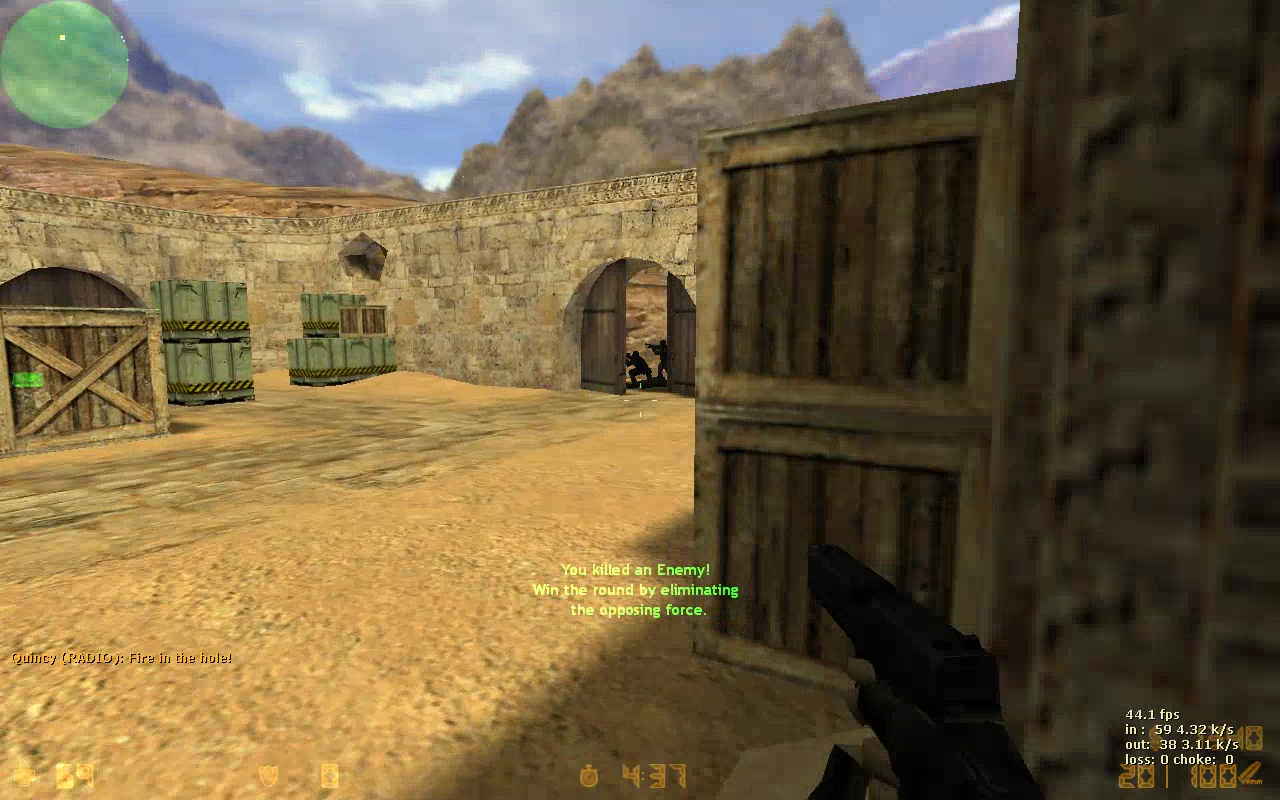ct: (624, 353, 653, 387), (650, 337, 670, 382)
